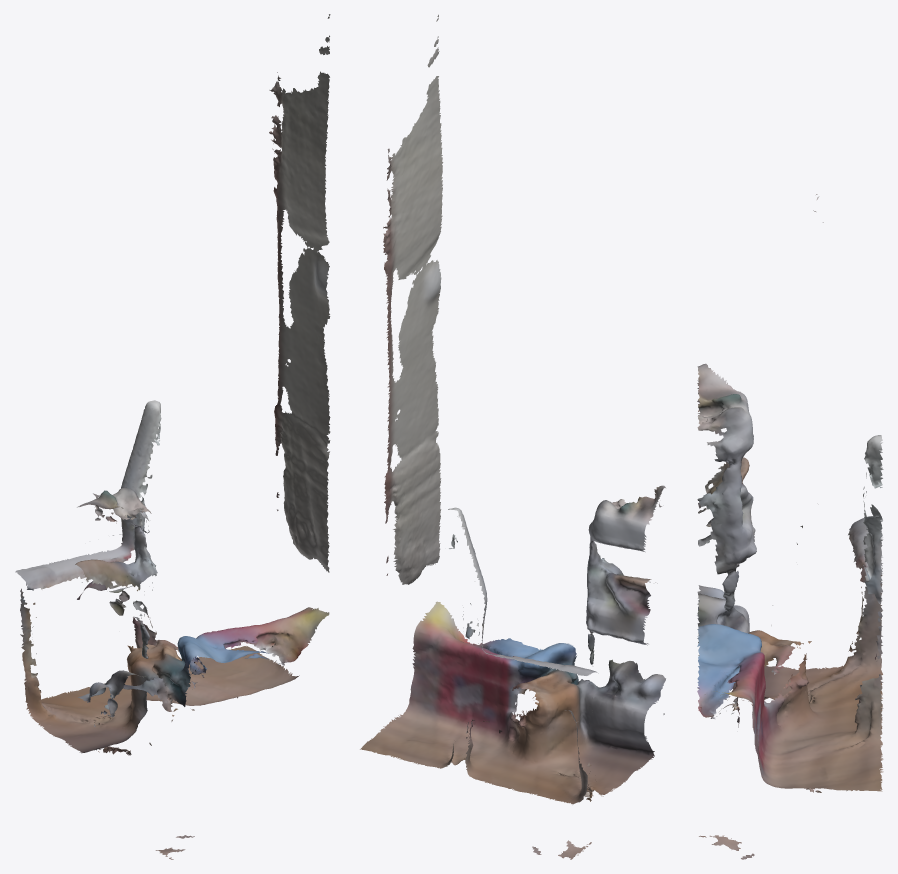
File: apartment-full-114-5ad400a53add.glb
The picture shows the model from 3 angles, left to right: view 1: azimuth 30°, elevation 25°; view 2: azimuth 150°, elevation 25°; view 3: azimuth 270°, elevation 25°; orthographic projection. The views are drawn at different scales.
Bounding box in the file's own units: 0.833 × 2.73 × 0.509.
